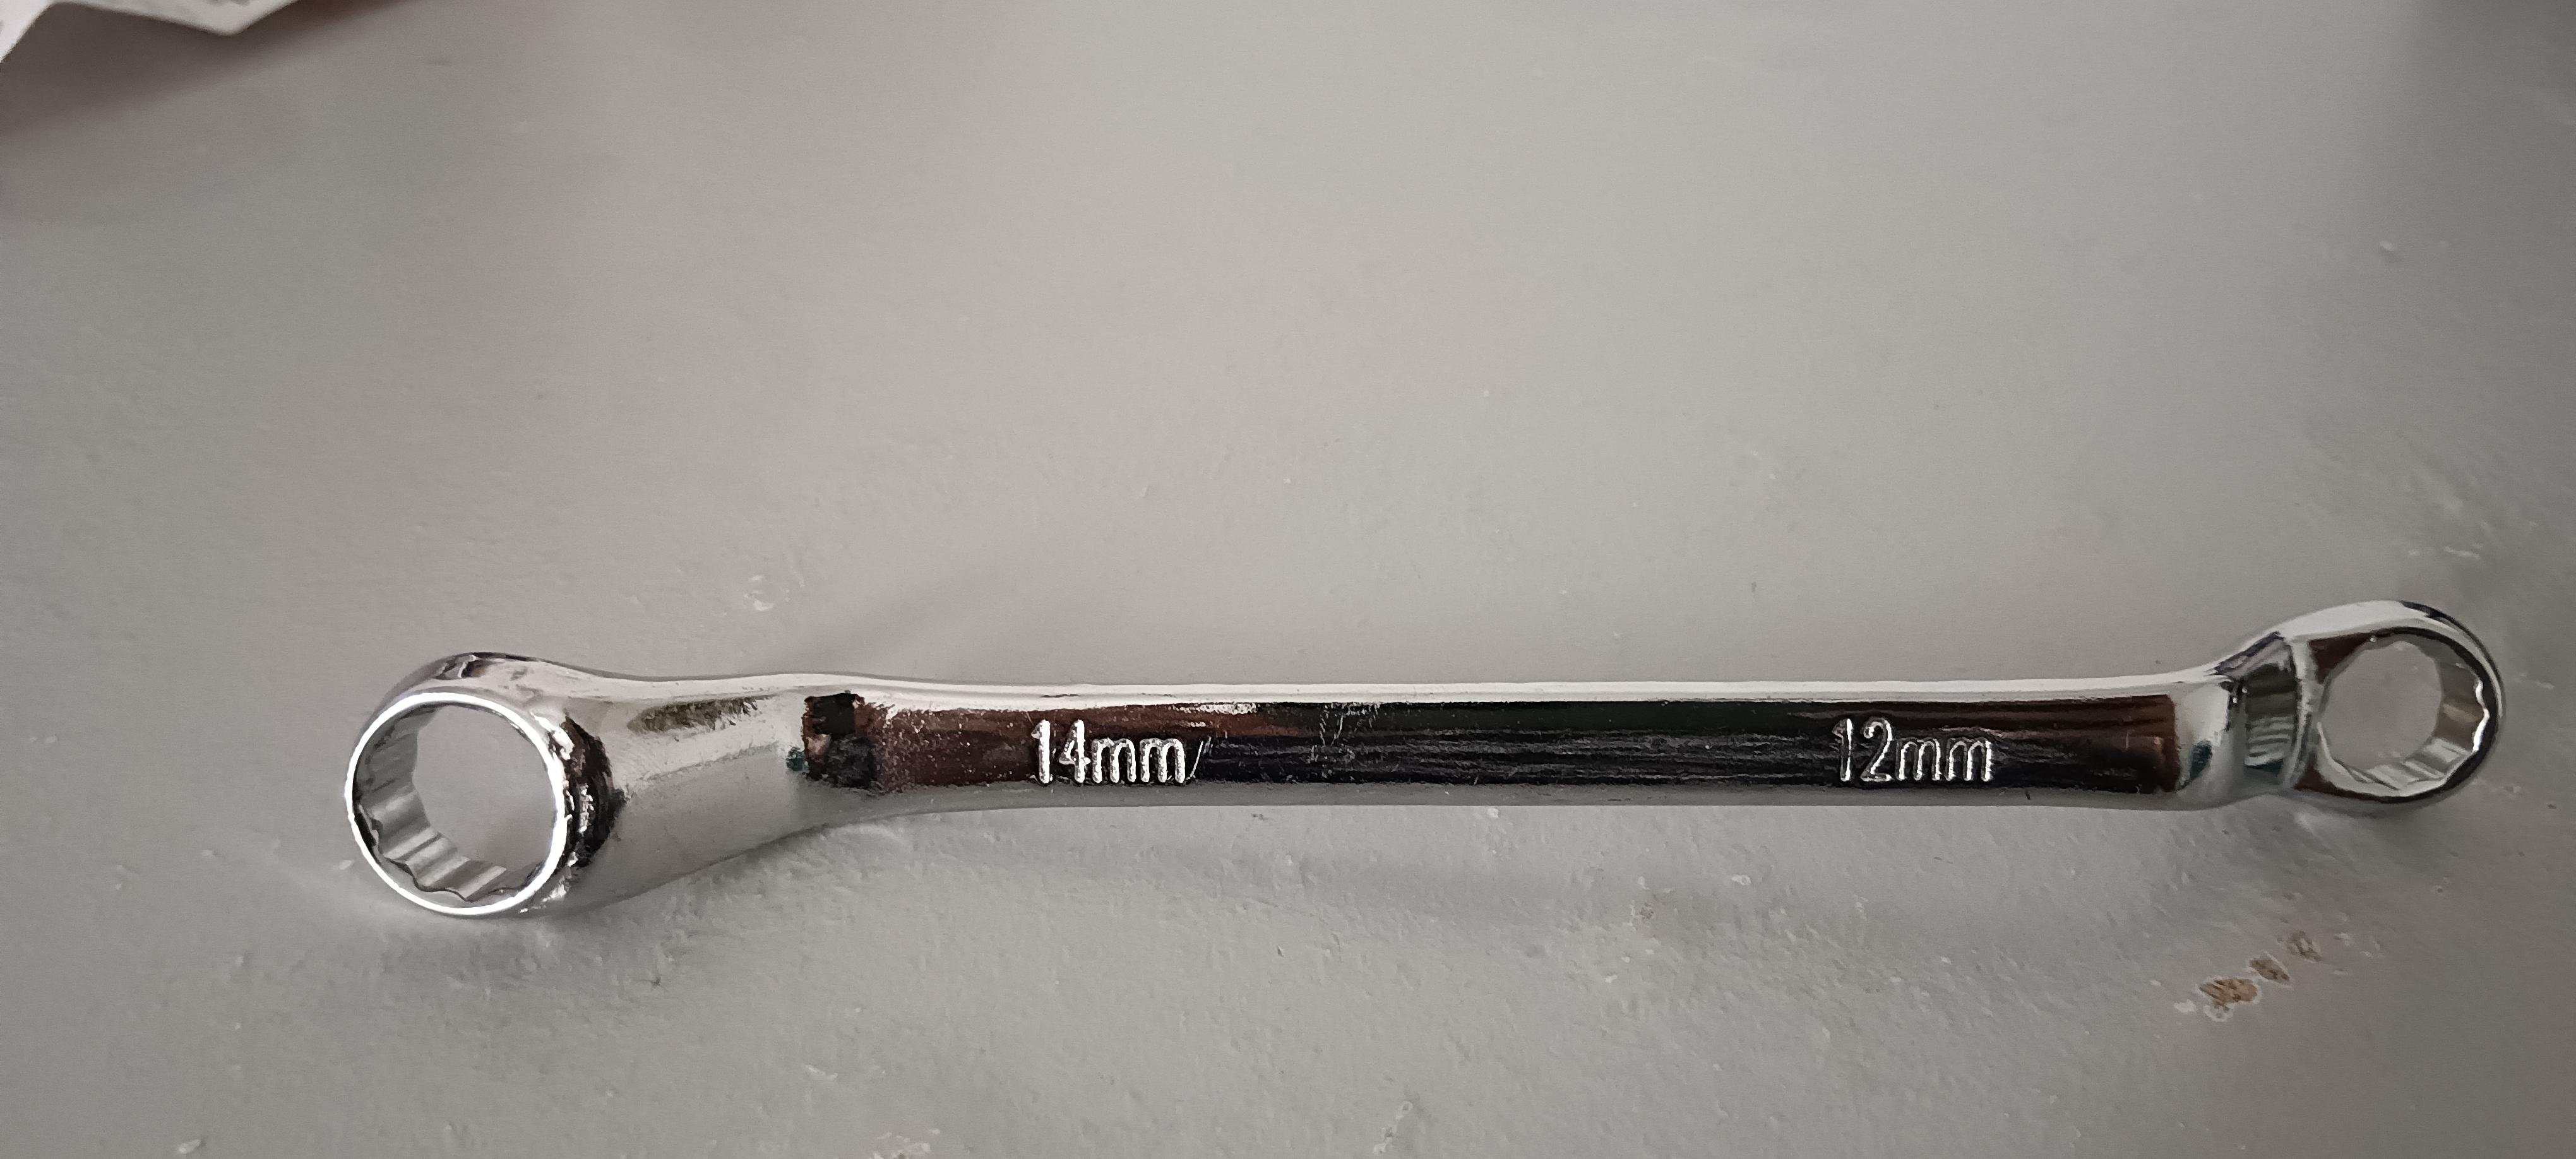Spanners: (299, 511, 2538, 978)
